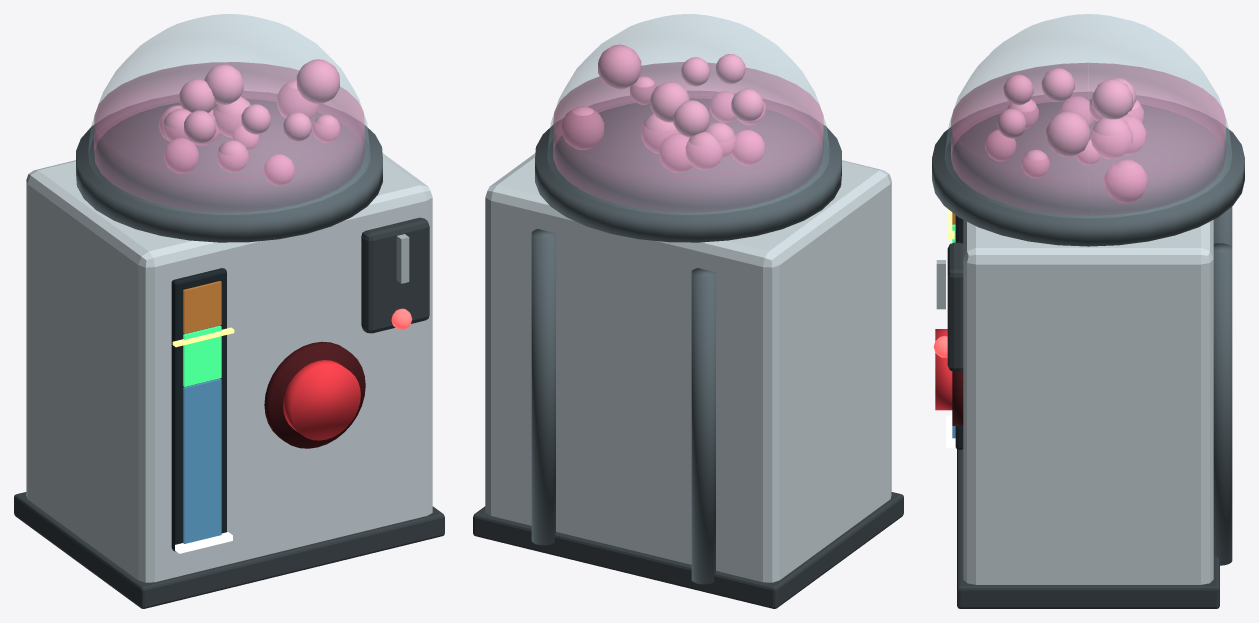
File: inc.glb
3 renders of one model, left to right at view 1: azimuth 30°, elevation 25°; view 2: azimuth 150°, elevation 25°; view 3: azimuth 270°, elevation 25°, orthographic.
Visible parts, largest first — view 1: body, dome, collar, liquid, foot, switch_box.001, gauge_zone, gauge, button_cap, button_rim, gauge_zone.001, gauge_zone.002 (+14 smaller); view 2: body, dome, collar, liquid, foot, pipe.001, pipe, egg_13, egg_8, egg_11, egg_1, egg_14 (+8 smaller); view 3: body, dome, collar, liquid, foot, pipe.001, switch_box.001, egg_13, egg_8, egg_3, egg_11, button_cap (+11 smaller).
Boxes of the visible parts, left/top/right/bottom form: body: left=26, top=153, right=432, bottom=582; dome: left=88, top=14, right=370, bottom=214; collar: left=76, top=91, right=382, bottom=242; liquid: left=94, top=62, right=364, bottom=212; foot: left=14, top=492, right=444, bottom=608; switch_box.001: left=361, top=217, right=429, bottom=333; gauge_zone: left=183, top=378, right=221, bottom=543; gauge: left=171, top=268, right=226, bottom=551; button_cap: left=283, top=360, right=360, bottom=440; button_rim: left=264, top=341, right=365, bottom=448; gauge_zone.001: left=183, top=325, right=221, bottom=386; gauge_zone.002: left=183, top=281, right=221, bottom=333; body: left=485, top=153, right=891, bottom=582; dome: left=547, top=14, right=829, bottom=214; collar: left=535, top=91, right=841, bottom=242; liquid: left=553, top=62, right=823, bottom=212; foot: left=473, top=492, right=903, bottom=608; pipe.001: left=531, top=229, right=555, bottom=545; pipe: left=691, top=268, right=715, bottom=584; egg_13: left=598, top=44, right=641, bottom=89; egg_8: left=562, top=106, right=603, bottom=149; egg_11: left=650, top=81, right=689, bottom=122; egg_1: left=686, top=131, right=722, bottom=169; egg_14: left=673, top=100, right=709, bottom=137; body: left=963, top=220, right=1213, bottom=584; dome: left=945, top=14, right=1231, bottom=218; collar: left=932, top=92, right=1244, bottom=246; liquid: left=951, top=63, right=1225, bottom=215; foot: left=957, top=449, right=1219, bottom=608; pipe.001: left=1213, top=243, right=1232, bottom=565; switch_box.001: left=947, top=242, right=963, bottom=371; egg_13: left=1046, top=111, right=1090, bottom=156; egg_8: left=1104, top=159, right=1147, bottom=203; egg_3: left=1090, top=118, right=1132, bottom=158; egg_11: left=1092, top=79, right=1132, bottom=119; button_cap: left=935, top=329, right=952, bottom=410.
Size of the model in its own units: 1.14 by 1.79 by 1.
